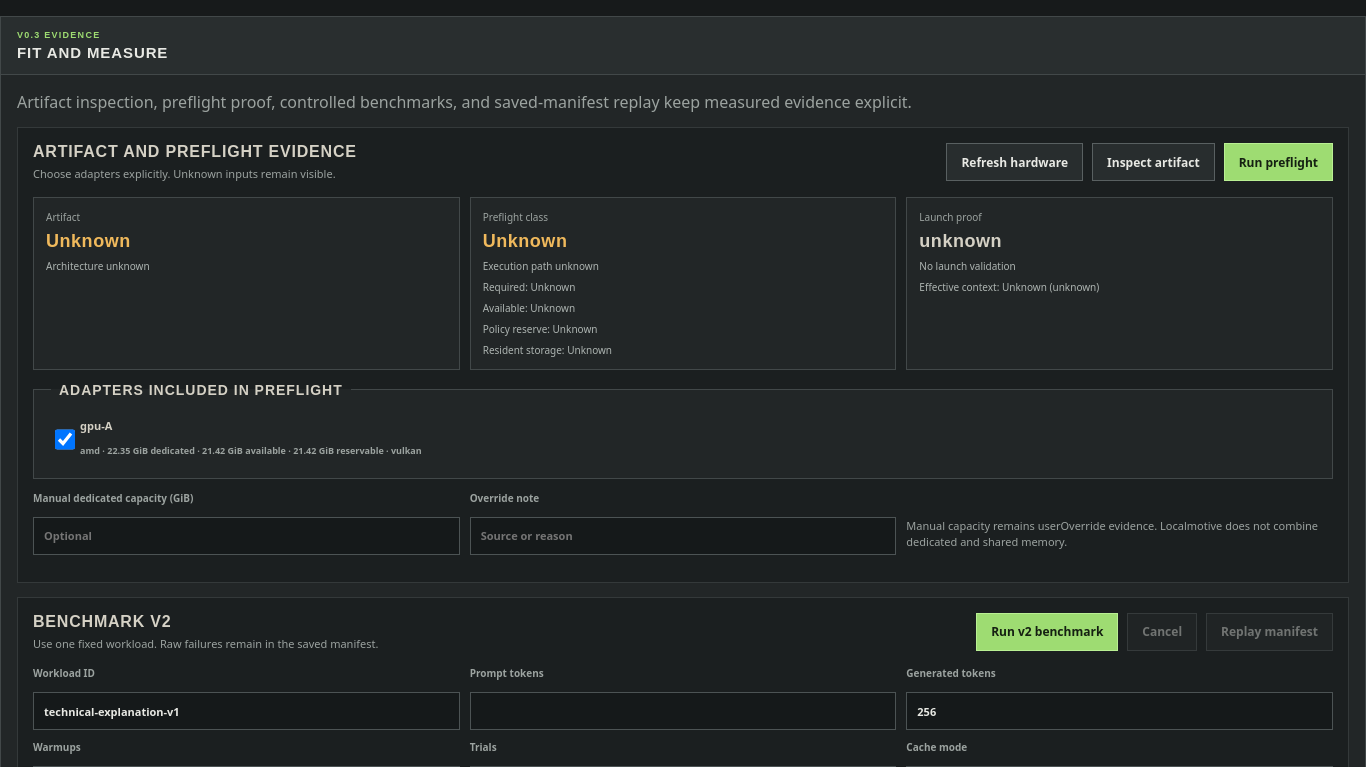
Test: benchmark workload editing › keeps a cleared Benchmark prompt tokens field blank
This screenshot has width=1366, height=767.
Expected: the button "Run v2 benchmark" is enabled, [976,612,1118,650]
Clear the field labelled "Prompt tokens" at coordinates (683, 711), box [470,692,896,730]
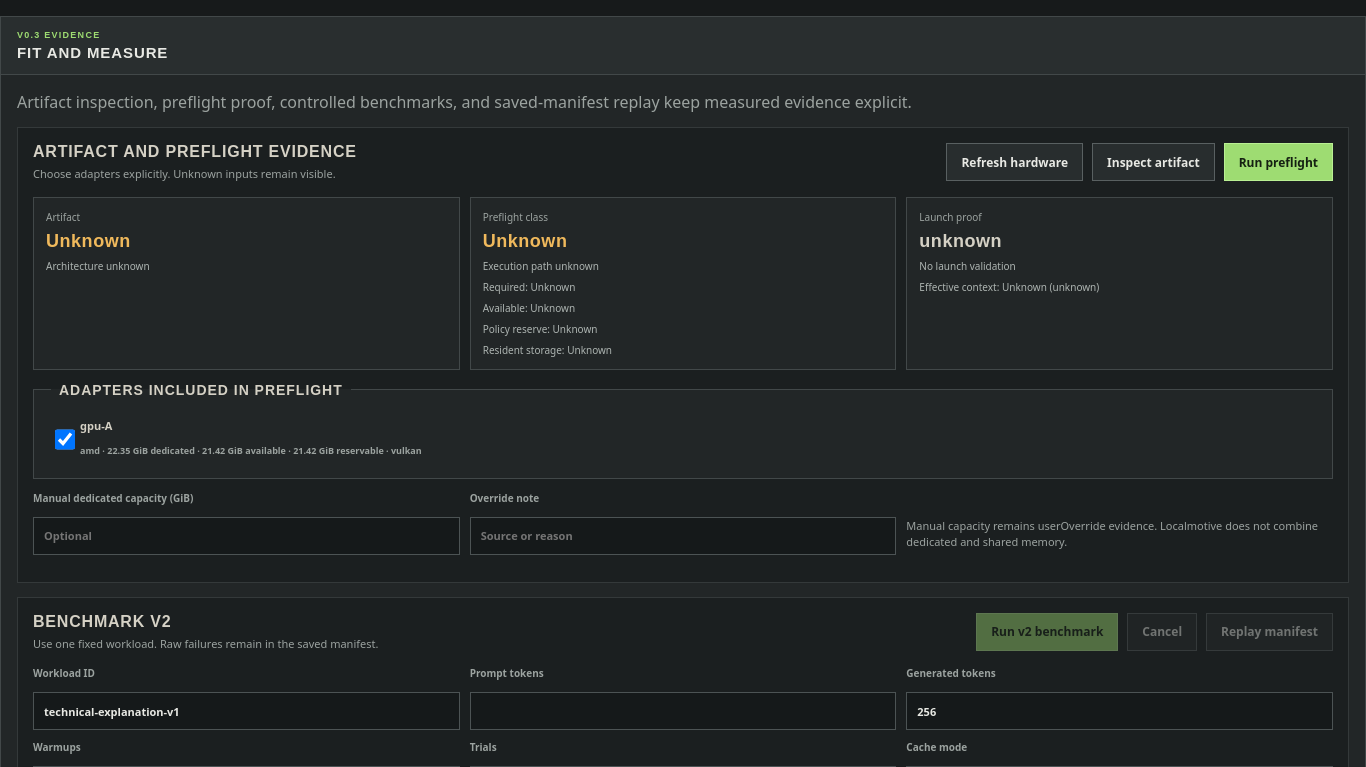
Expected: the button "Run v2 benchmark" is disabled, [976,612,1118,650]
